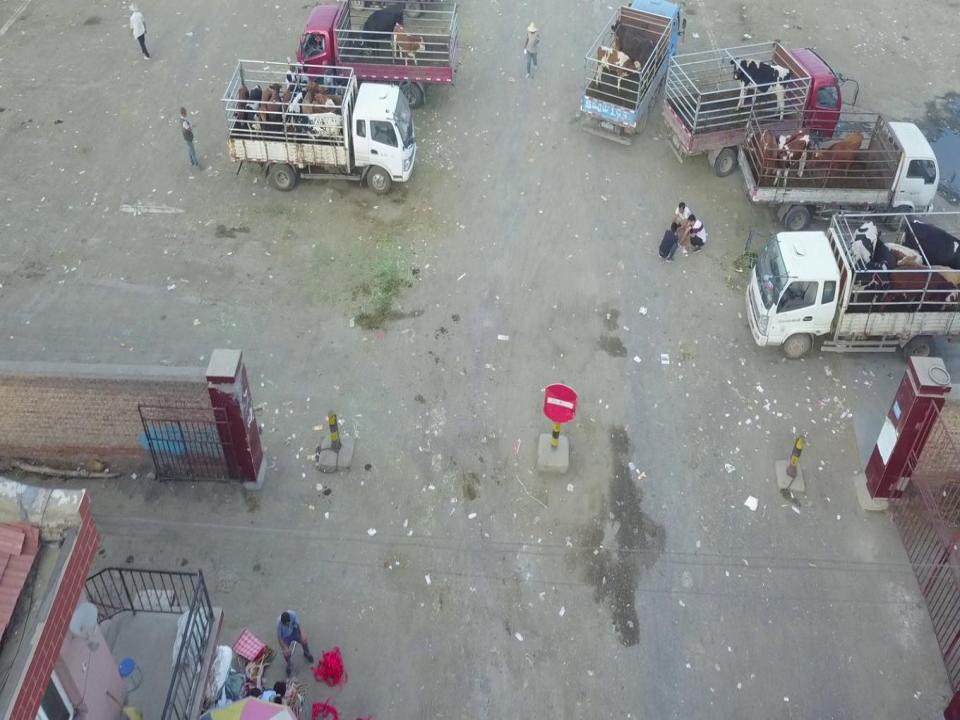truck: (741, 232, 960, 358), (230, 57, 417, 191), (746, 106, 938, 230), (667, 49, 842, 167), (300, 8, 456, 104), (586, 0, 686, 149)
